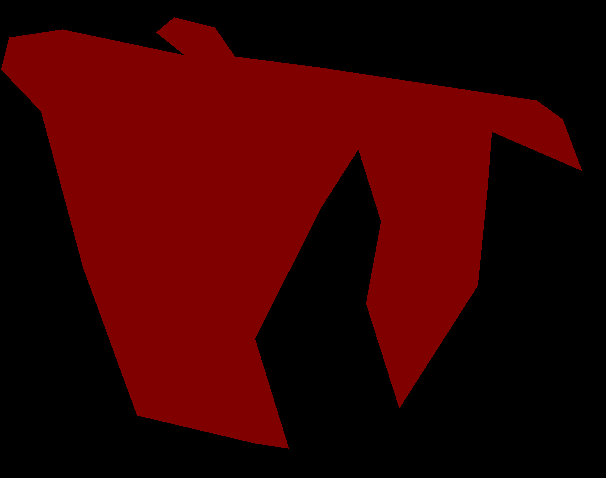fire: (1, 17, 581, 448)
